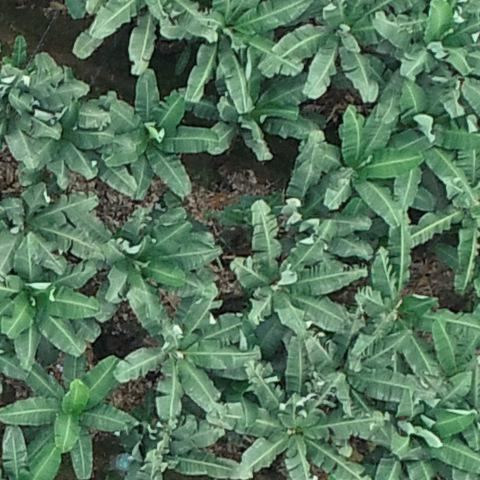Banana-plant: (207, 335, 375, 480), (70, 206, 219, 330), (111, 290, 249, 419), (4, 343, 133, 480), (236, 201, 367, 331), (84, 71, 217, 197), (164, 0, 309, 107), (185, 58, 323, 161), (308, 107, 423, 229), (0, 61, 109, 186), (272, 0, 395, 103), (305, 304, 421, 413), (0, 239, 98, 365), (355, 390, 480, 480), (412, 144, 480, 291), (118, 403, 235, 480), (0, 185, 98, 276), (374, 0, 480, 77), (396, 320, 480, 409), (396, 80, 480, 156)
